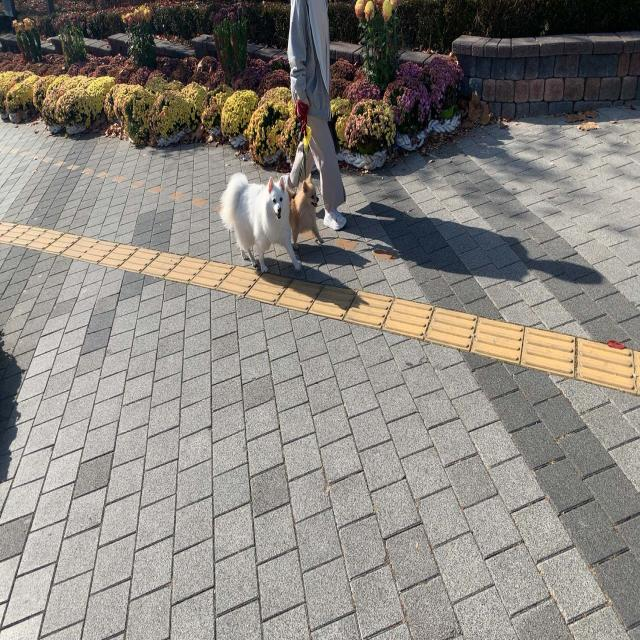Leashed_Dog: (220, 122, 310, 277), (289, 123, 324, 254)
